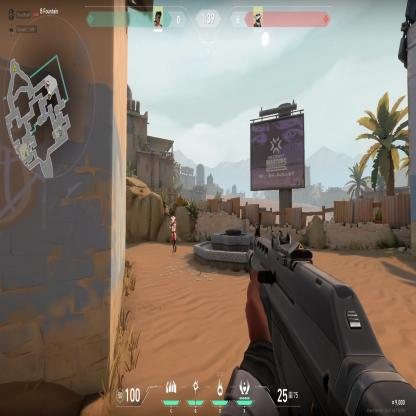enemy: (169, 215, 177, 253)
